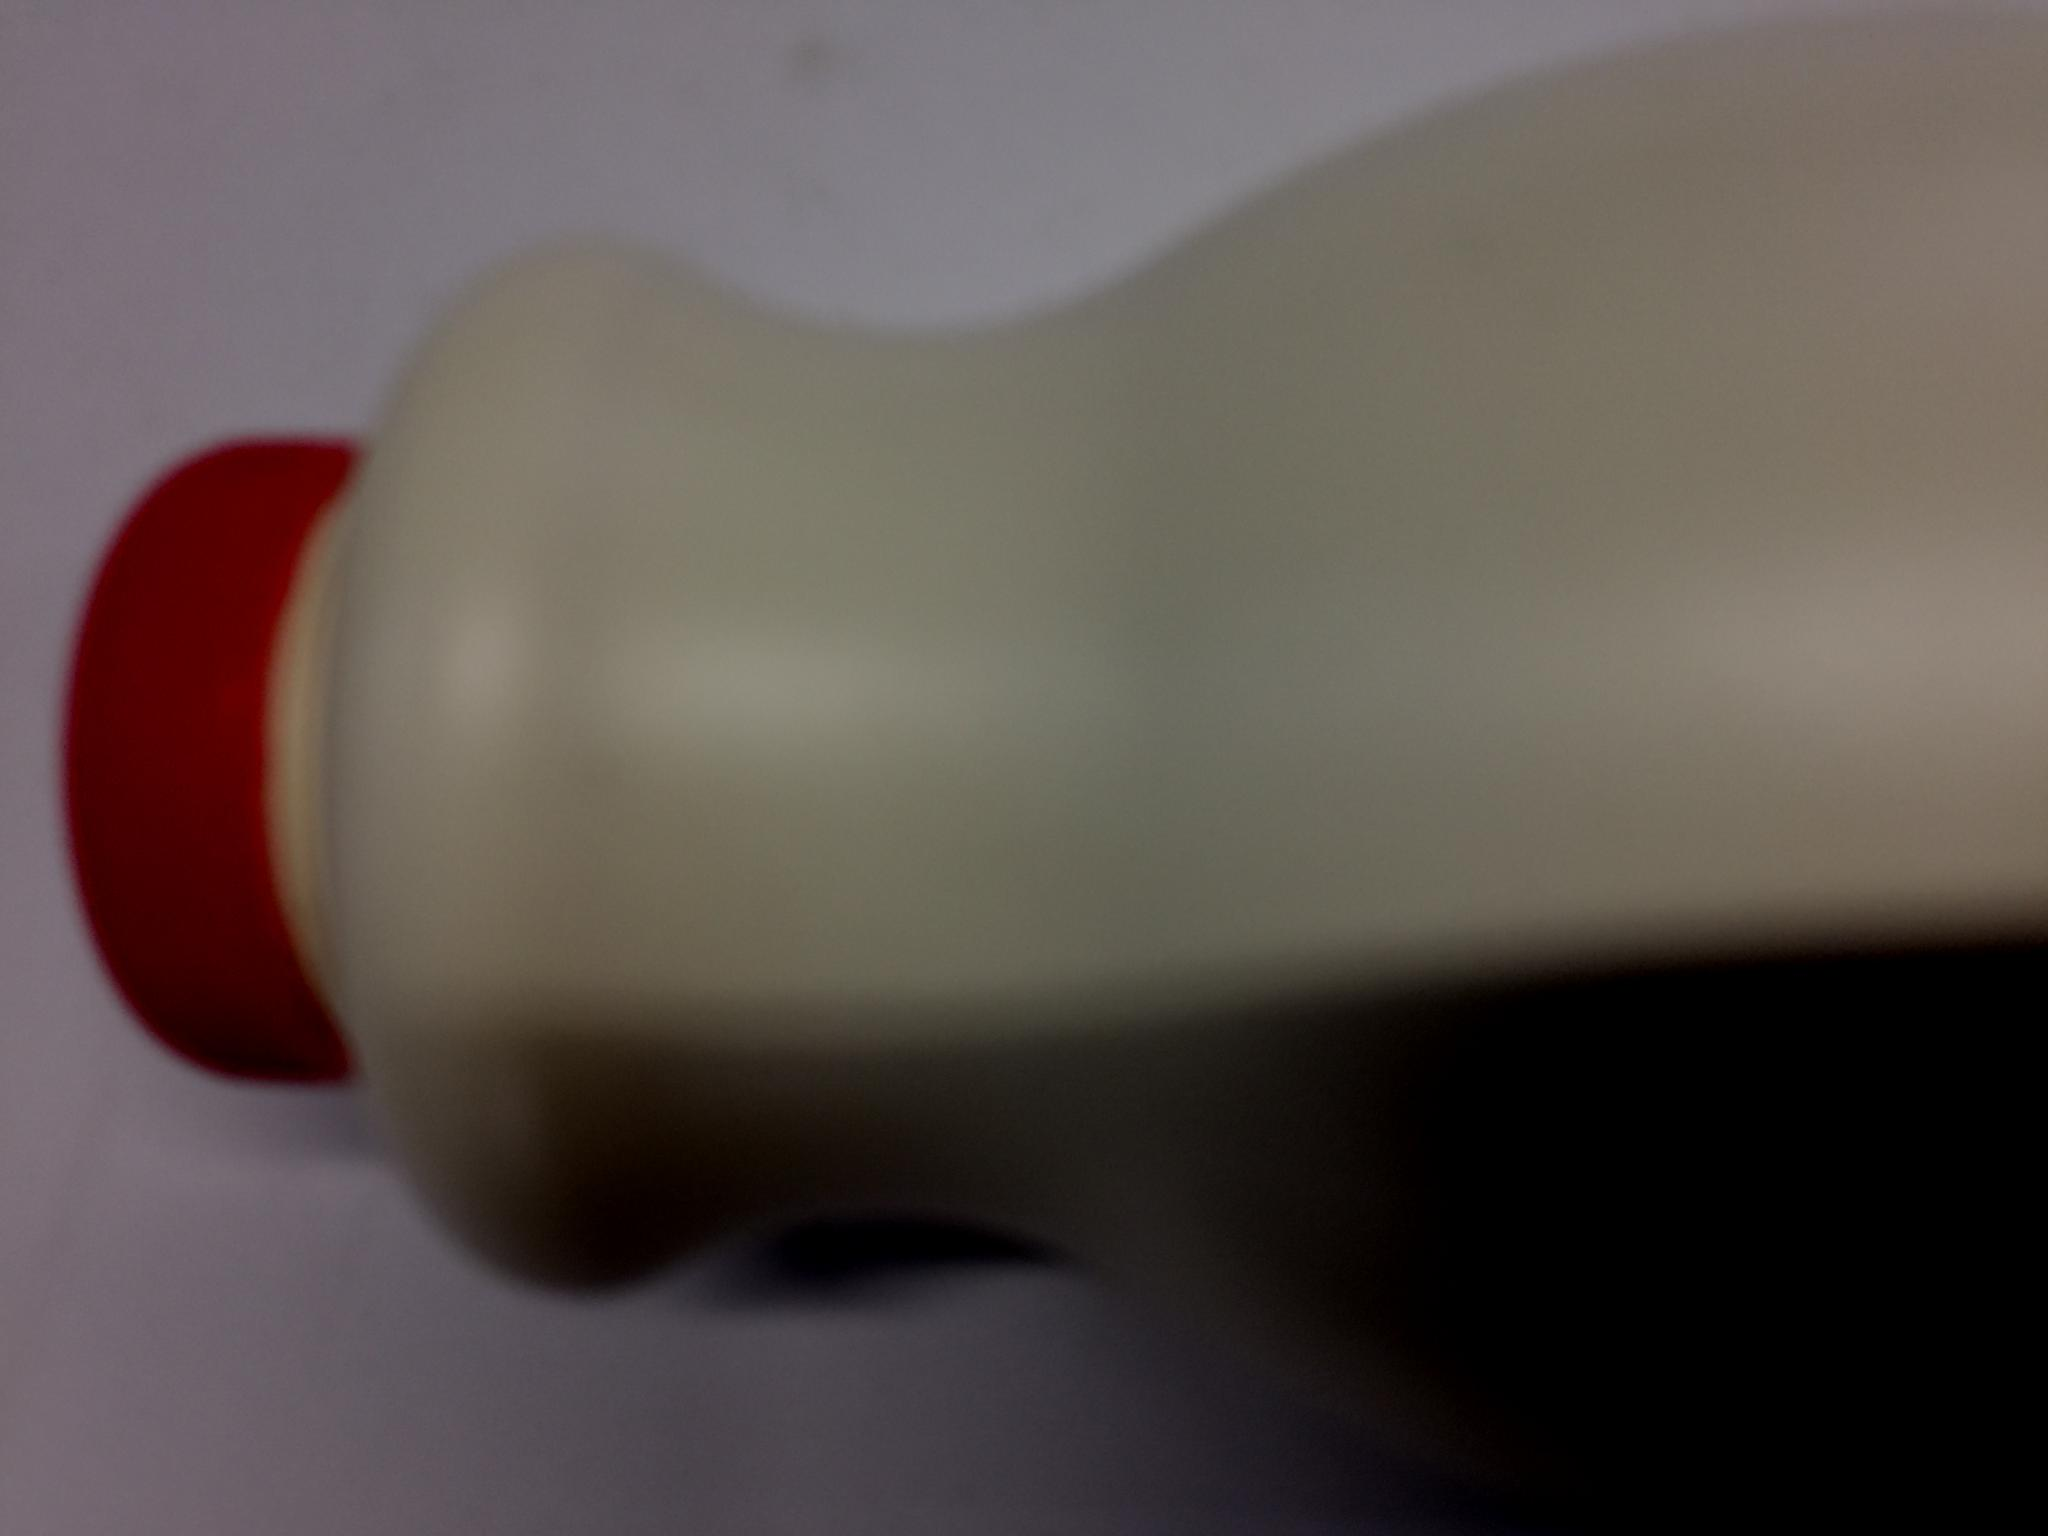Plastic: (47, 0, 2046, 1534)
